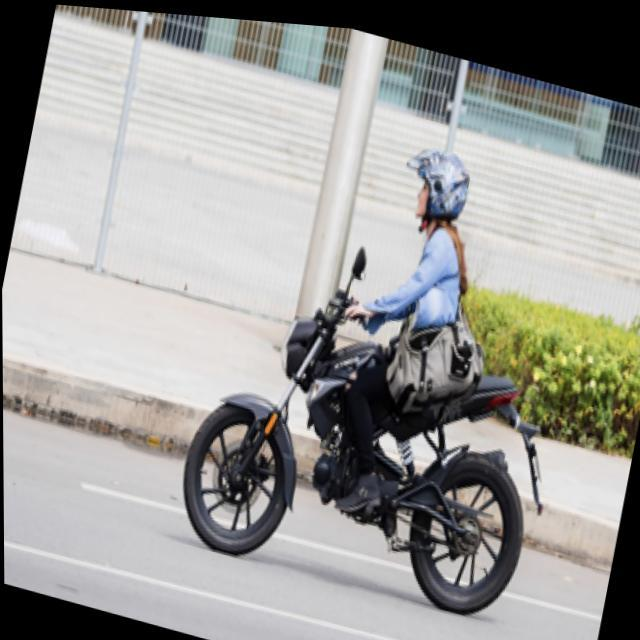Helmet: (399, 138, 474, 238)
